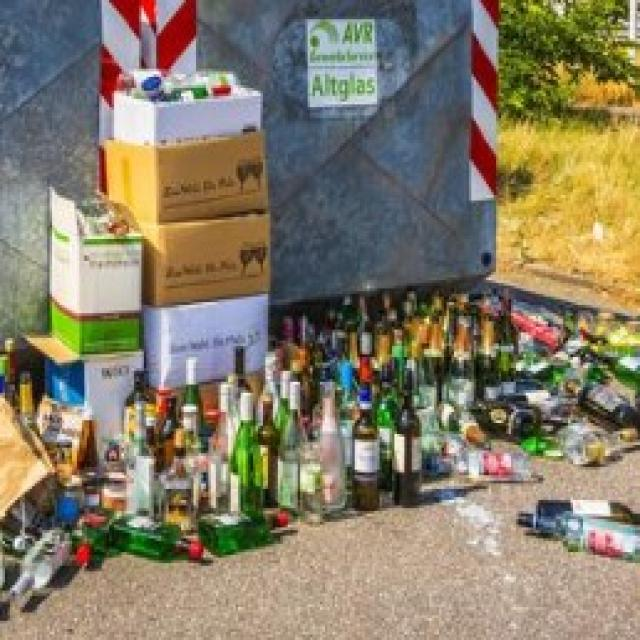electronic: (2, 281, 640, 566)
